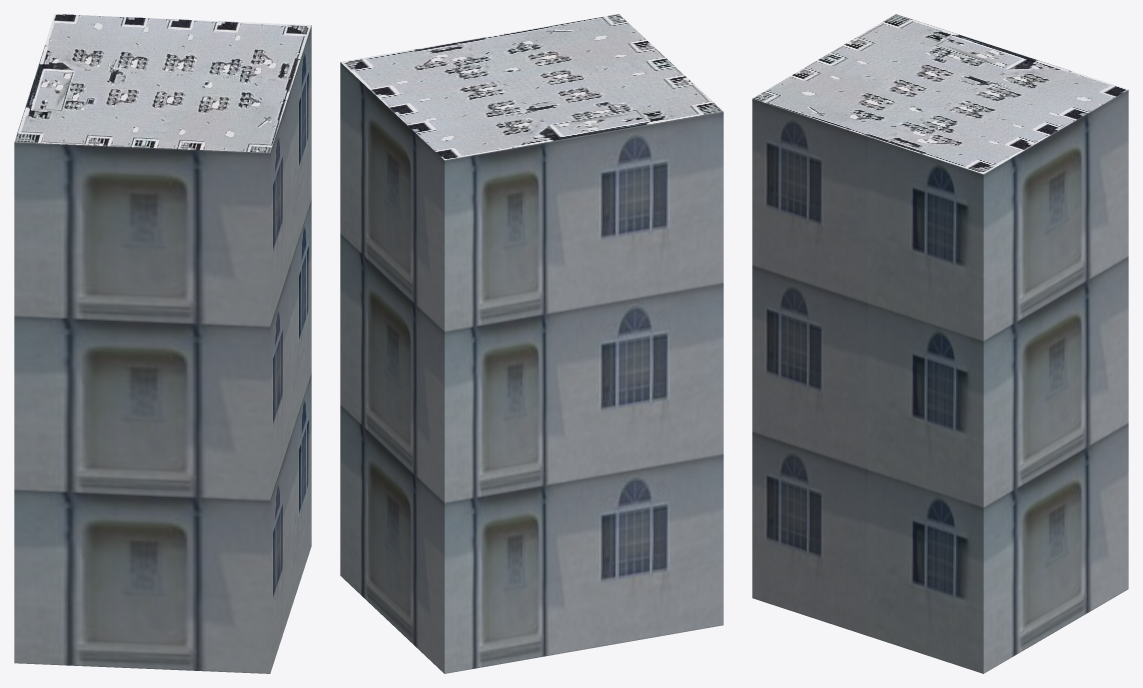
File: ResTex__4546.fbx
3 views of the same model, side by side, from view 1: azimuth 30°, elevation 25°; view 2: azimuth 150°, elevation 25°; view 3: azimuth 270°, elevation 25° (orthographic). The views are drawn at different scales.
Parts seen in each view (by area): view 1: CityEngineMaterial_17_m, CityEngineMaterial_m; view 2: CityEngineMaterial_17_m, CityEngineMaterial_m; view 3: CityEngineMaterial_17_m, CityEngineMaterial_m.
Boxes of the visible parts, bbox=[...] form: CityEngineMaterial_17_m: bbox=[14, 26, 311, 673]; CityEngineMaterial_m: bbox=[14, 14, 311, 152]; CityEngineMaterial_17_m: bbox=[340, 62, 723, 673]; CityEngineMaterial_m: bbox=[341, 14, 722, 160]; CityEngineMaterial_17_m: bbox=[752, 90, 1128, 673]; CityEngineMaterial_m: bbox=[753, 14, 1128, 174].
Size of the model in its own units: 6.2 by 9 by 6.14.
Materials: 2 (2 with a texture image).
